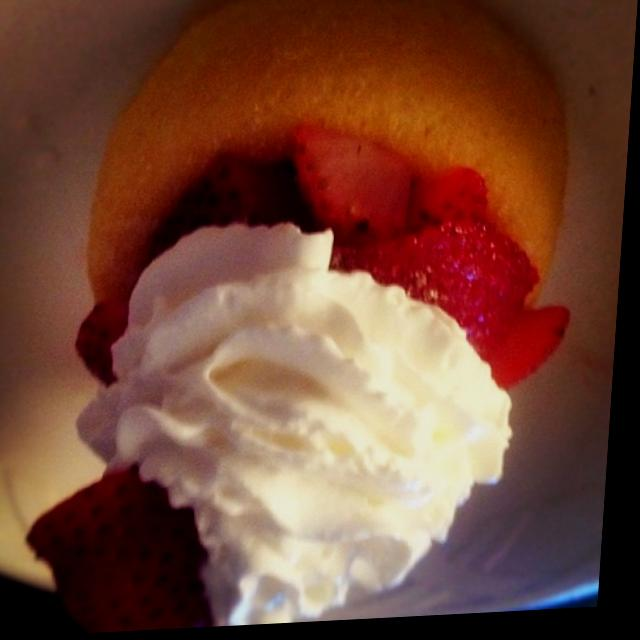蛋糕甜品: (0, 0, 617, 640)
